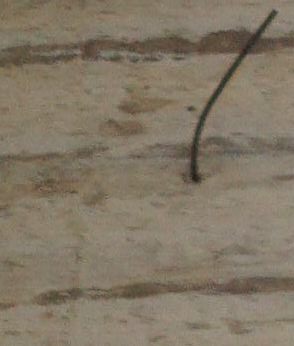Exposed reinforcement: (190, 8, 279, 183)
